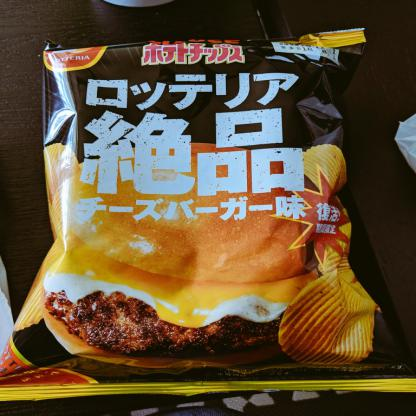potatochip: (0, 21, 415, 383)
